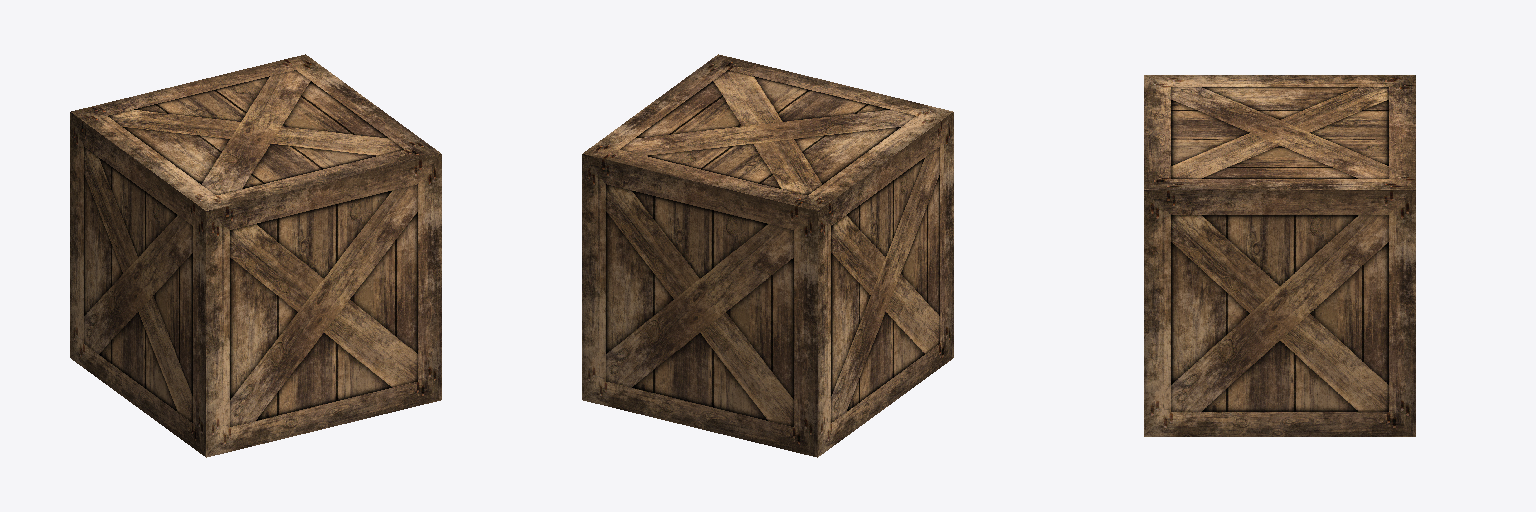
3 renders of one model, left to right at view 1: azimuth 30°, elevation 25°; view 2: azimuth 150°, elevation 25°; view 3: azimuth 270°, elevation 25°, orthographic.
Parts seen in each view (by area): view 1: cube; view 2: cube; view 3: cube.
Part boxes in pixels (bbox=[...]): cube: bbox=[70, 54, 441, 457]; cube: bbox=[582, 54, 953, 457]; cube: bbox=[1144, 75, 1415, 436].
Bounding box in the file's own units: 2 × 2 × 2.
Materials: 6 (1 with a texture image).